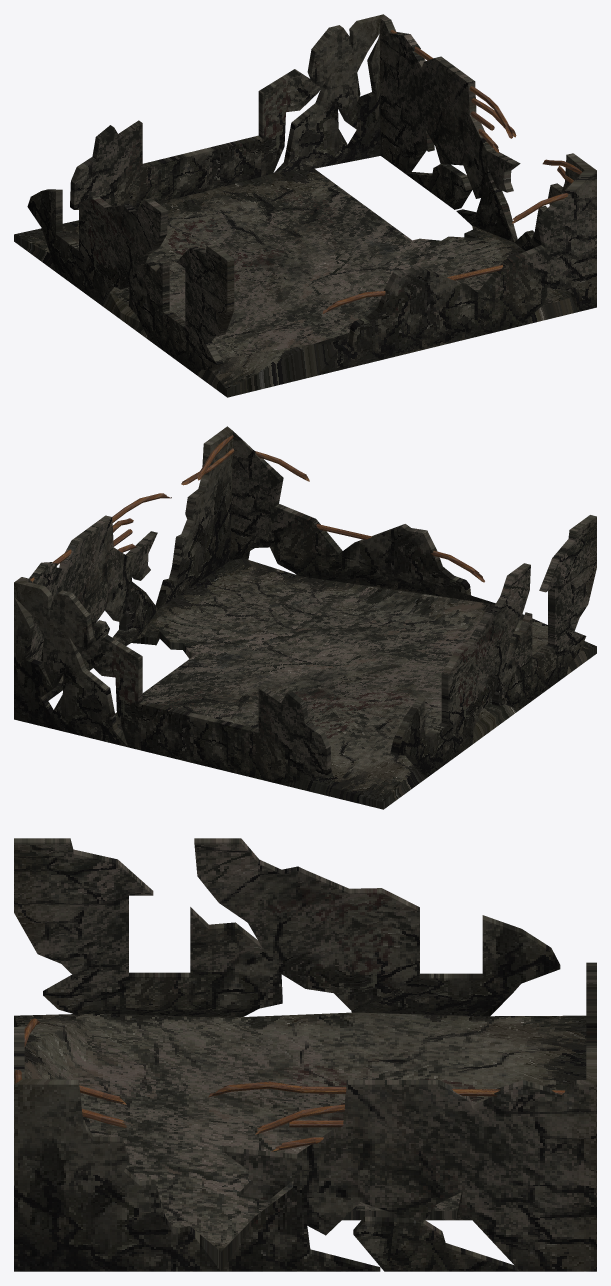
File: ruinas3.glb
The picture shows the model from 3 angles, top to bottom: view 1: azimuth 30°, elevation 25°; view 2: azimuth 150°, elevation 25°; view 3: azimuth 270°, elevation 25°; orthographic projection. The views are drawn at different scales.
Parts seen in each view (by area): view 1: Cube.016, Cylinder.025; view 2: Cube.016, Cylinder.025; view 3: Cube.016, Cylinder.025.
Boxes of the visible parts, x1=… form: Cube.016: x1=14, y1=14, x2=596, y2=397; Cylinder.025: x1=322, y1=30, x2=582, y2=313; Cube.016: x1=14, y1=426, x2=596, y2=809; Cylinder.025: x1=30, y1=435, x2=484, y2=582; Cube.016: x1=14, y1=838, x2=596, y2=1271; Cylinder.025: x1=14, y1=1018, x2=564, y2=1151.
Size of the model in its own units: 15.55 by 5.38 by 15.2.
2 materials, 2 textured.
